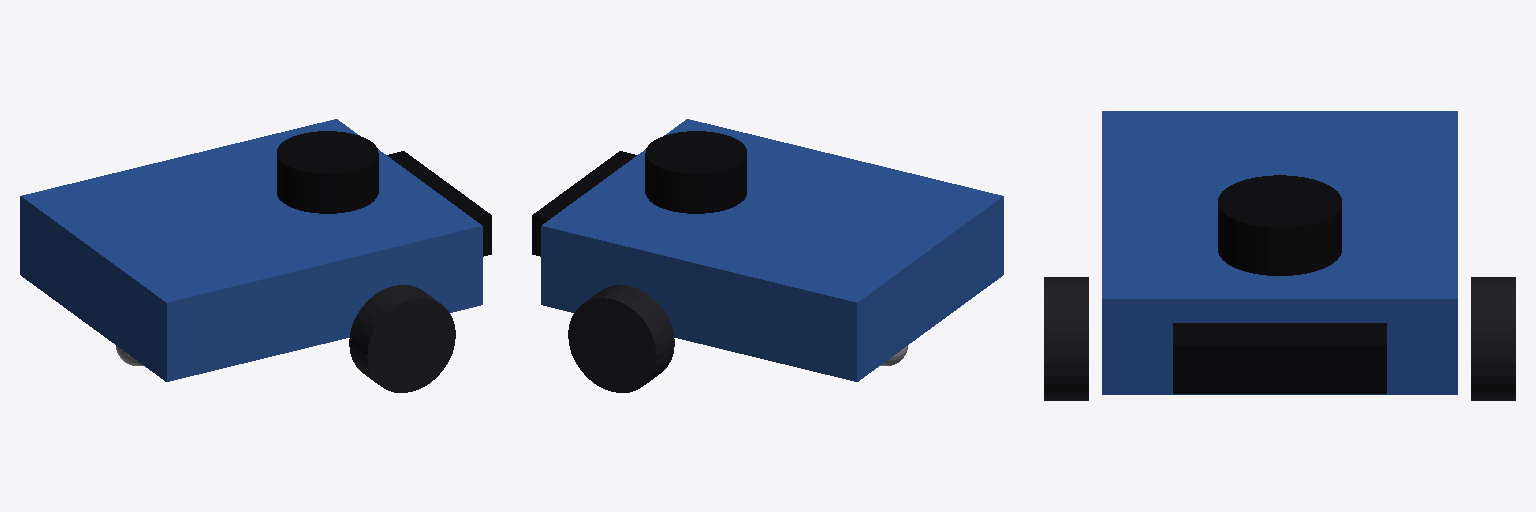
URDF robot description (diff_bot):
<?xml version="1.0" ?>
<!-- Generated by Robot Studio 1.0.0 from the 'diff' template (Differential base with caster).
     Parameters are xacro properties below; sensors are switched with arguments, e.g.
       xacro diff_bot.urdf.xacro use_lidar:=false
     Software-generated: check masses, dimensions and limits against the real robot. -->
<robot name="diff_bot">
  <material name="chassis">
    <color rgba="0.2 0.36 0.62 1"/>
  </material>
  <material name="wheel">
    <color rgba="0.15 0.15 0.17 1"/>
  </material>
  <material name="hub">
    <color rgba="0.92 0.42 0.12 1"/>
  </material>
  <material name="caster">
    <color rgba="0.6 0.6 0.62 1"/>
  </material>
  <material name="sensor">
    <color rgba="0.08 0.08 0.09 1"/>
  </material>
  <link name="base_footprint"/>
  <link name="base_link">
    <inertial>
      <origin rpy="0 0 0" xyz="0 0 0.03"/>
      <mass value="2.5"/>
      <inertia ixx="0.009083333333333334" ixy="0" ixz="0" iyy="0.013770833333333335" iyz="0" izz="0.02135416666666667"/>
    </inertial>
    <visual>
      <origin rpy="0 0 0" xyz="0 0 0.03"/>
      <geometry>
        <box size="0.25 0.2 0.06"/>
      </geometry>
      <material name="chassis"/>
    </visual>
    <collision>
      <origin rpy="0 0 0" xyz="0 0 0.03"/>
      <geometry>
        <box size="0.25 0.2 0.06"/>
      </geometry>
    </collision>
  </link>
  <joint name="base_joint" type="fixed">
    <parent link="base_footprint"/>
    <child link="base_link"/>
    <origin rpy="0 0 0" xyz="0 0 0.035"/>
  </joint>
  <link name="left_wheel">
    <inertial>
      <origin rpy="0 0 0" xyz="0 0 0"/>
      <mass value="0.1"/>
      <inertia ixx="3.583333333333334e-05" ixy="0" ixz="0" iyy="6.125000000000001e-05" iyz="0" izz="3.583333333333334e-05"/>
    </inertial>
    <visual>
      <origin rpy="1.5707963267948966 0 0" xyz="0 0 0"/>
      <geometry>
        <cylinder length="0.025" radius="0.035"/>
      </geometry>
      <material name="wheel"/>
    </visual>
    <collision>
      <origin rpy="1.5707963267948966 0 0" xyz="0 0 0"/>
      <geometry>
        <cylinder length="0.025" radius="0.035"/>
      </geometry>
    </collision>
  </link>
  <joint name="left_wheel_joint" type="continuous">
    <parent link="base_link"/>
    <child link="left_wheel"/>
    <origin rpy="0 0 0" xyz="0.05 0.12 0"/>
    <axis xyz="0 1 0"/>
    <limit effort="1" velocity="15"/>
  </joint>
  <link name="right_wheel">
    <inertial>
      <origin rpy="0 0 0" xyz="0 0 0"/>
      <mass value="0.1"/>
      <inertia ixx="3.583333333333334e-05" ixy="0" ixz="0" iyy="6.125000000000001e-05" iyz="0" izz="3.583333333333334e-05"/>
    </inertial>
    <visual>
      <origin rpy="1.5707963267948966 0 0" xyz="0 0 0"/>
      <geometry>
        <cylinder length="0.025" radius="0.035"/>
      </geometry>
      <material name="wheel"/>
    </visual>
    <collision>
      <origin rpy="1.5707963267948966 0 0" xyz="0 0 0"/>
      <geometry>
        <cylinder length="0.025" radius="0.035"/>
      </geometry>
    </collision>
  </link>
  <joint name="right_wheel_joint" type="continuous">
    <parent link="base_link"/>
    <child link="right_wheel"/>
    <origin rpy="0 0 0" xyz="0.05 -0.12 0"/>
    <axis xyz="0 1 0"/>
    <limit effort="1" velocity="15"/>
  </joint>
  <!-- Caster ball touching the ground (base_link is at wheel axle height). -->
  <link name="caster_link">
    <inertial>
      <origin rpy="0 0 0" xyz="0 0 0"/>
      <mass value="0.03"/>
      <inertia ixx="2.6999999999999996e-06" ixy="0" ixz="0" iyy="2.6999999999999996e-06" iyz="0" izz="2.6999999999999996e-06"/>
    </inertial>
    <visual>
      <origin rpy="0 0 0" xyz="0 0 0"/>
      <geometry>
        <sphere radius="0.015"/>
      </geometry>
      <material name="caster"/>
    </visual>
    <collision>
      <origin rpy="0 0 0" xyz="0 0 0"/>
      <geometry>
        <sphere radius="0.015"/>
      </geometry>
    </collision>
  </link>
  <joint name="caster_joint" type="fixed">
    <parent link="base_link"/>
    <child link="caster_link"/>
    <origin rpy="0 0 0" xyz="-0.09 0 -0.020000000000000004"/>
  </joint>
  <link name="lidar_link">
    <inertial>
      <origin rpy="0 0 0" xyz="0 0 0"/>
      <mass value="0.17"/>
      <inertia ixx="7.472916666666668e-05" ixy="0" ixz="0" iyy="7.472916666666668e-05" iyz="0" izz="0.00010412500000000004"/>
    </inertial>
    <visual>
      <origin rpy="0 0 0" xyz="0 0 0"/>
      <geometry>
        <cylinder length="0.04" radius="0.035"/>
      </geometry>
      <material name="sensor"/>
    </visual>
    <collision>
      <origin rpy="0 0 0" xyz="0 0 0"/>
      <geometry>
        <cylinder length="0.04" radius="0.035"/>
      </geometry>
    </collision>
  </link>
  <joint name="lidar_joint" type="fixed">
    <parent link="base_link"/>
    <child link="lidar_link"/>
    <origin rpy="0 0 0" xyz="0.06 0 0.07"/>
  </joint>
  <link name="imu_link">
    <inertial>
      <origin rpy="0 0 0" xyz="0 0 0"/>
      <mass value="0.01"/>
      <inertia ixx="3.5416666666666673e-07" ixy="0" ixz="0" iyy="3.5416666666666673e-07" iyz="0" izz="6.666666666666668e-07"/>
    </inertial>
    <visual>
      <origin rpy="0 0 0" xyz="0 0 0"/>
      <geometry>
        <box size="0.02 0.02 0.005"/>
      </geometry>
      <material name="sensor"/>
    </visual>
    <collision>
      <origin rpy="0 0 0" xyz="0 0 0"/>
      <geometry>
        <box size="0.02 0.02 0.005"/>
      </geometry>
    </collision>
  </link>
  <joint name="imu_joint" type="fixed">
    <parent link="base_link"/>
    <child link="imu_link"/>
    <origin rpy="0 0 0" xyz="0 0 0.02"/>
  </joint>
  <link name="depth_camera_link">
    <inertial>
      <origin rpy="0 0 0" xyz="0 0 0"/>
      <mass value="0.1"/>
      <inertia ixx="0.0001275" ixy="0" ixz="0" iyy="1.5e-05" iyz="0" izz="0.0001275"/>
    </inertial>
    <visual>
      <origin rpy="0 0 0" xyz="0 0 0"/>
      <geometry>
        <box size="0.03 0.12 0.03"/>
      </geometry>
      <material name="sensor"/>
    </visual>
    <collision>
      <origin rpy="0 0 0" xyz="0 0 0"/>
      <geometry>
        <box size="0.03 0.12 0.03"/>
      </geometry>
    </collision>
  </link>
  <joint name="depth_camera_joint" type="fixed">
    <parent link="base_link"/>
    <child link="depth_camera_link"/>
    <origin rpy="0 0 0" xyz="0.14 0 0.03"/>
  </joint>
  <link name="depth_camera_optical_frame"/>
  <joint name="depth_camera_optical_joint" type="fixed">
    <parent link="depth_camera_link"/>
    <child link="depth_camera_optical_frame"/>
    <origin rpy="-1.5707963267948966 0 -1.5707963267948966" xyz="0 0 0"/>
  </joint>
</robot>

--- What the picture shows (computed from the rendered views, not written in the file) ---
3 views of the same robot in one strip: view 1: azimuth 30°, elevation 25°; view 2: azimuth 150°, elevation 25°; view 3: azimuth 270°, elevation 25° (orthographic).
Robot: diff_bot — 9 links, 8 joints (2 continuous, 6 fixed); root link base_footprint; default pose: every joint at zero.
Visible links, largest first — view 1: base_link, right_wheel, lidar_link, depth_camera_link; view 2: base_link, left_wheel, lidar_link, depth_camera_link; view 3: base_link, depth_camera_link, lidar_link, left_wheel, right_wheel.
Link boxes in pixels (x1,y1,x2,y2): base_link: (20, 119, 482, 381); right_wheel: (349, 285, 455, 392); lidar_link: (277, 131, 378, 213); depth_camera_link: (387, 151, 491, 256); base_link: (541, 119, 1003, 381); left_wheel: (568, 285, 674, 392); lidar_link: (645, 131, 746, 213); depth_camera_link: (532, 151, 636, 256); base_link: (1102, 111, 1457, 394); depth_camera_link: (1173, 323, 1386, 393); lidar_link: (1218, 175, 1341, 275); left_wheel: (1471, 277, 1515, 400); right_wheel: (1044, 277, 1088, 400).
Bounding box of the posed robot: 0.28 × 0.265 × 0.125 m (x, y, z).
Geometry: primitives only (box / cylinder / sphere), no mesh files.
